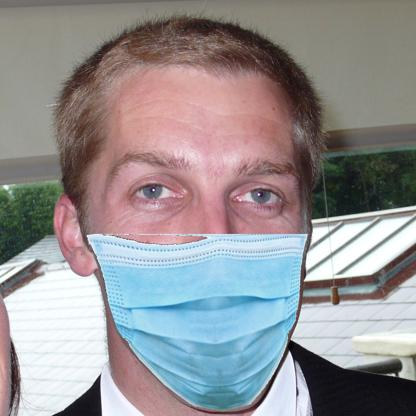mask: (85, 232, 312, 412)
